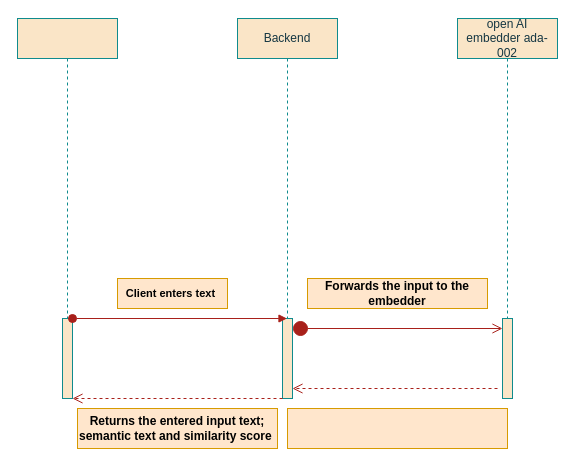
Some shapes in this 575 by 466 pixel diagram are drawn without their labels. Here are the shapes that lost their labels. From the top down, the box of each, then its label:
(16, 18, 118, 318): Client Front end
(286, 408, 508, 448): Text converted into vector representation
